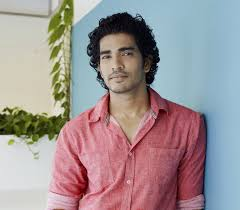middle_eastern_male: (97, 32, 154, 91)
